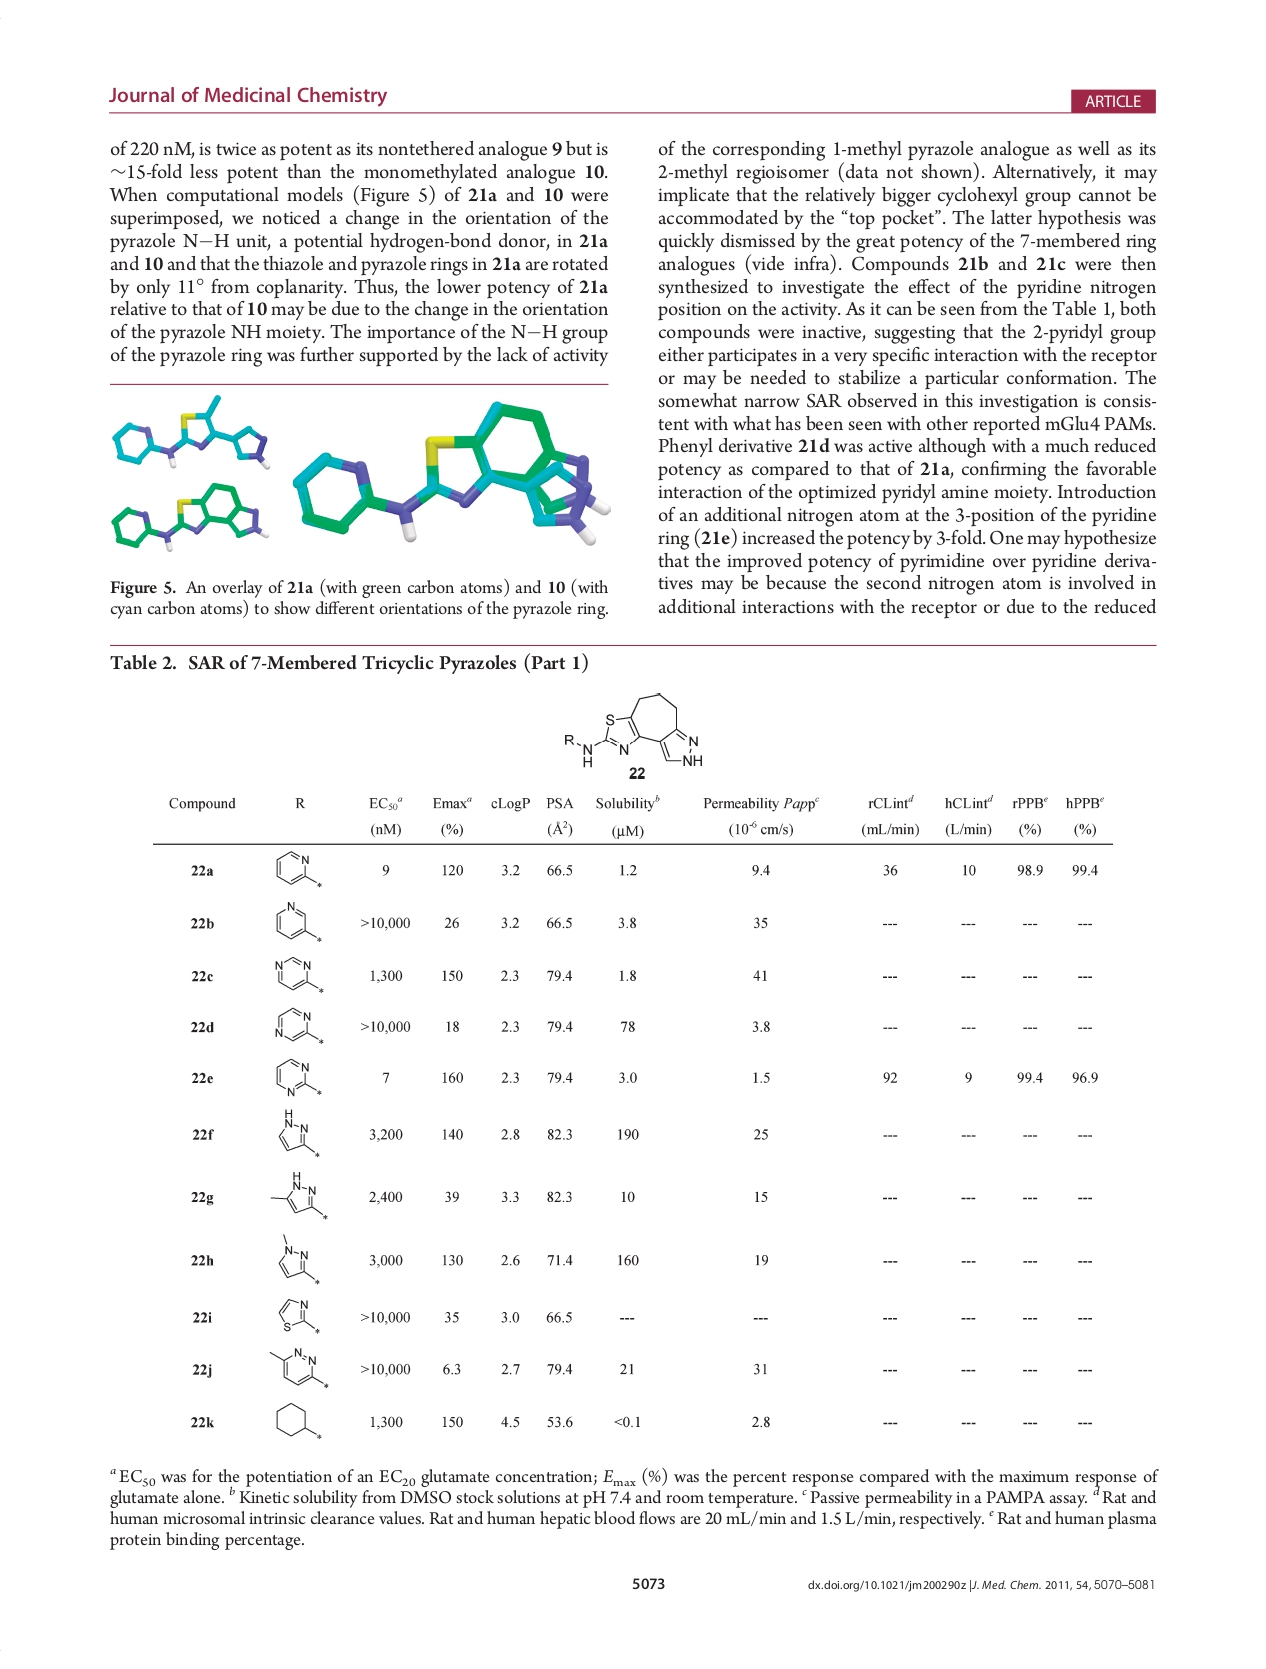exist_molecular: (563, 690, 705, 769), (269, 1168, 331, 1222), (267, 1343, 332, 1392), (273, 1230, 322, 1287), (271, 1396, 326, 1442), (277, 1106, 322, 1160), (273, 1005, 324, 1049), (274, 900, 323, 946), (273, 1057, 322, 1100), (273, 1295, 322, 1337), (274, 952, 322, 993), (271, 850, 322, 888)
